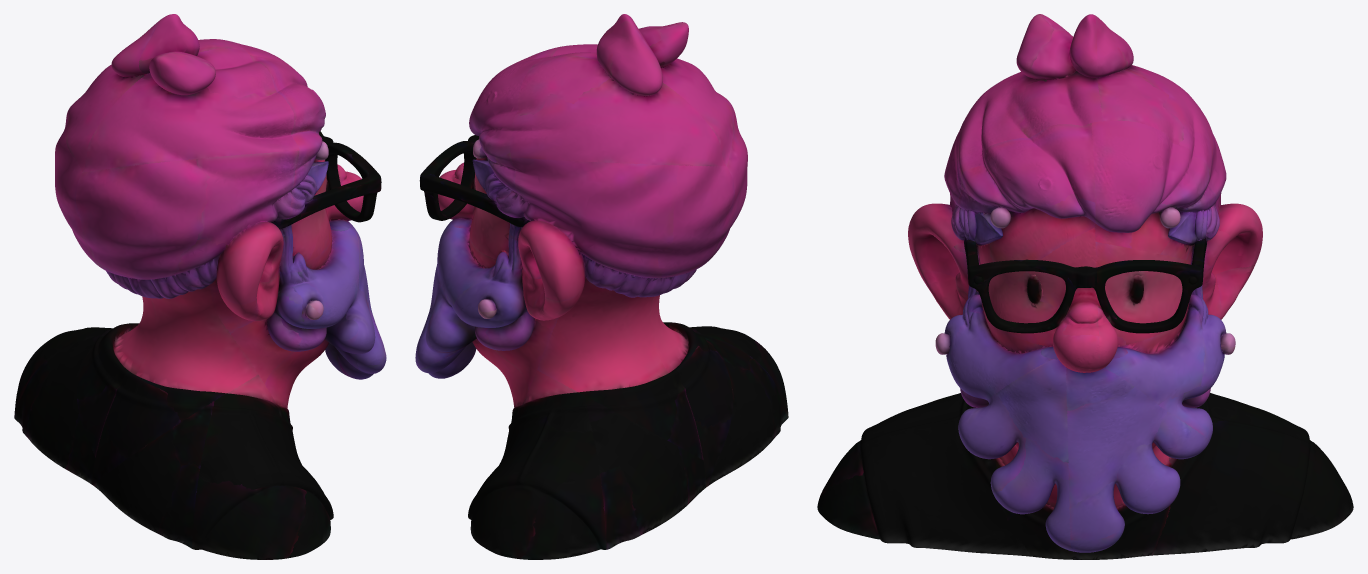
The model's file is genesis-compressed.glb.
3 renders of one model, left to right at view 1: azimuth 30°, elevation 25°; view 2: azimuth 150°, elevation 25°; view 3: azimuth 270°, elevation 25°, orthographic. The views are drawn at different scales.
Visible parts, largest first — view 1: tripo_node_323442f8-5f55-401a-b900-1cf3f130385b; view 2: tripo_node_323442f8-5f55-401a-b900-1cf3f130385b; view 3: tripo_node_323442f8-5f55-401a-b900-1cf3f130385b.
Boxes of the visible parts, x1=… form: tripo_node_323442f8-5f55-401a-b900-1cf3f130385b: x1=14, y1=14, x2=386, y2=559; tripo_node_323442f8-5f55-401a-b900-1cf3f130385b: x1=415, y1=14, x2=788, y2=559; tripo_node_323442f8-5f55-401a-b900-1cf3f130385b: x1=817, y1=14, x2=1353, y2=559.
Bounding box in the file's own units: 0.6767 × 0.9779 × 0.9655.
Materials: 1 (1 with a texture image).
